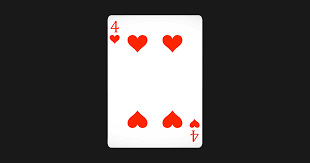four of hearts: (108, 14, 200, 147)
